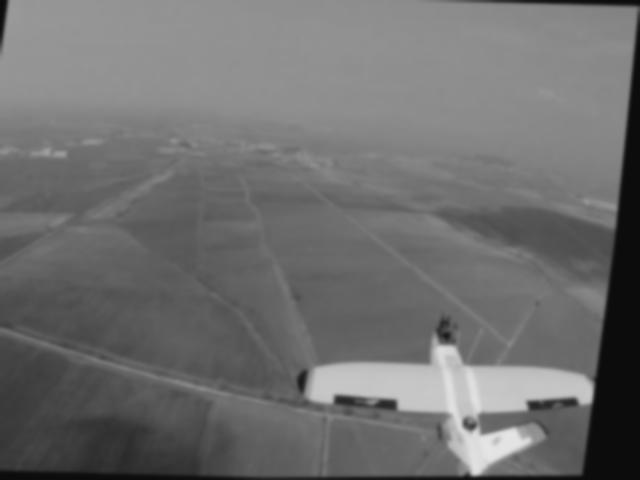hedef: (252, 274, 615, 478)
